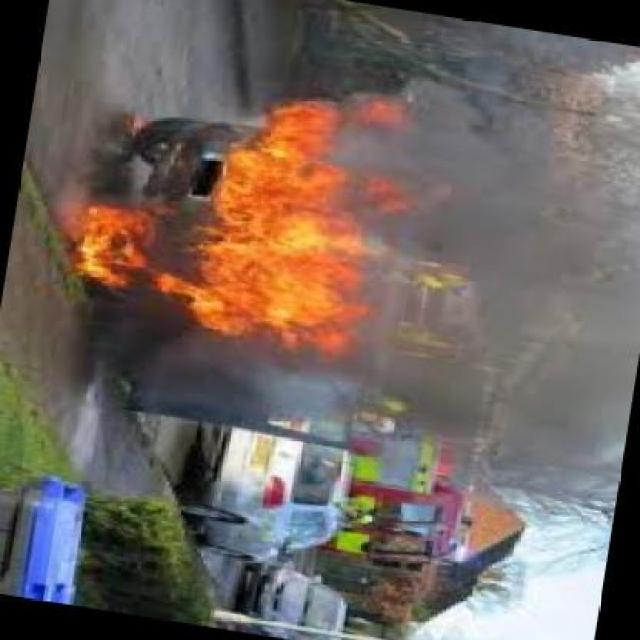Fire: (166, 82, 346, 364), (70, 182, 163, 289), (242, 300, 244, 302)
Smoke: (385, 86, 630, 458)
